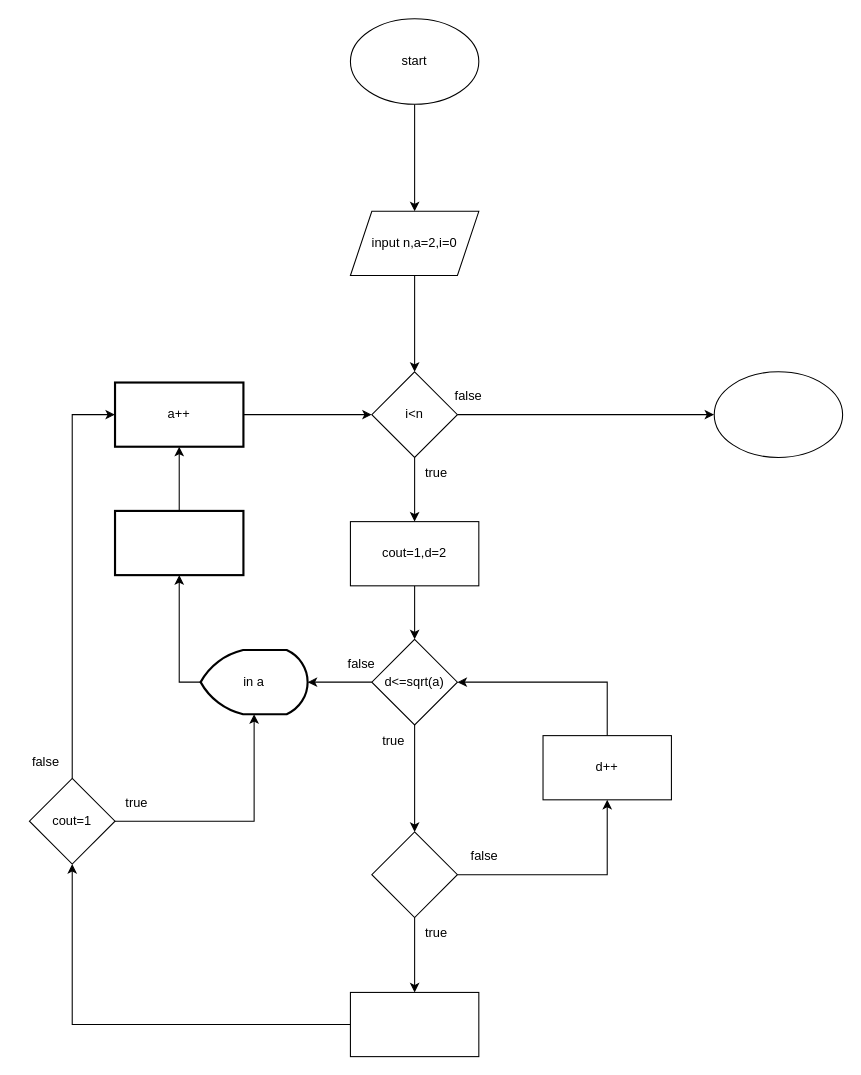
This 861x1075 diagram has some shape labels left out. Here are the shapes that lost their labels. From the top down, the box of each, then its label:
(713, 371, 843, 457): end
(113, 509, 244, 576): i++
(371, 831, 457, 918): a%d==0
(349, 991, 479, 1057): cout=0
